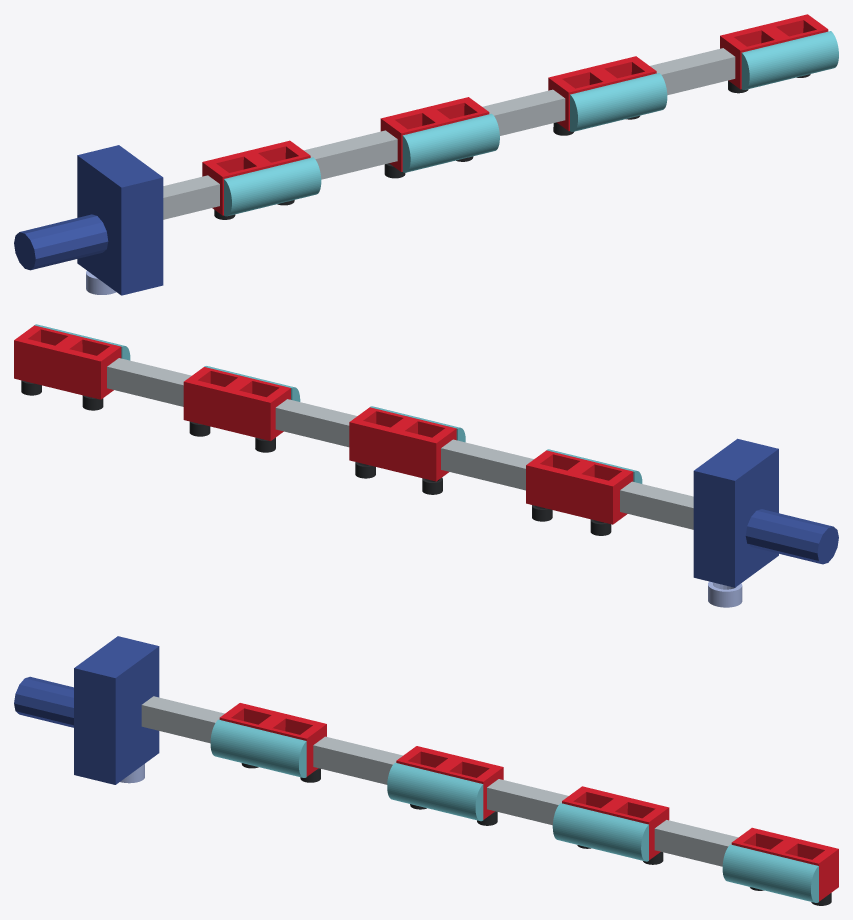
Rendered from tinker.obj.
3 views of the same model, one above another, from view 1: azimuth 30°, elevation 25°; view 2: azimuth 150°, elevation 25°; view 3: azimuth 330°, elevation 25° (orthographic).
Parts seen in each view (by area): view 1: group_0_7720667, group_0_3888547, group_0_15277357, group_0_12568524, group_0_2829873; view 2: group_0_15277357, group_0_3888547, group_0_12568524, group_0_2829873, group_0_7720667, group_0_11452141; view 3: group_0_7720667, group_0_3888547, group_0_15277357, group_0_12568524, group_0_2829873.
Boxes of the visible parts, x1,y1,x2,y2 form: group_0_7720667: [224, 31, 838, 216]; group_0_3888547: [14, 145, 163, 295]; group_0_15277357: [202, 14, 828, 215]; group_0_12568524: [163, 48, 735, 219]; group_0_2829873: [214, 74, 810, 219]; group_0_15277357: [14, 325, 633, 524]; group_0_3888547: [693, 438, 838, 587]; group_0_12568524: [107, 358, 693, 529]; group_0_2829873: [21, 380, 611, 535]; group_0_7720667: [34, 324, 642, 483]; group_0_11452141: [708, 581, 742, 607]; group_0_7720667: [210, 719, 818, 902]; group_0_3888547: [14, 636, 159, 784]; group_0_15277357: [219, 703, 838, 901]; group_0_12568524: [141, 696, 738, 866]; group_0_2829873: [241, 763, 831, 905].
Size of the model in its own units: 576 by 90 by 55.
